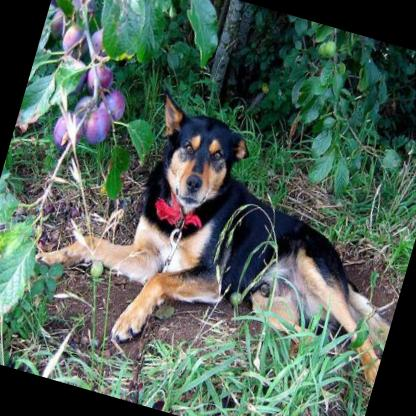kelpie: (14, 64, 416, 411)
